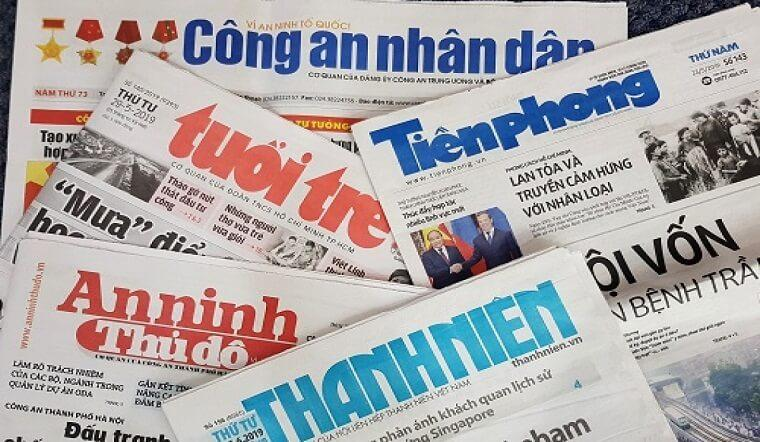paper: (0, 3, 760, 442)
